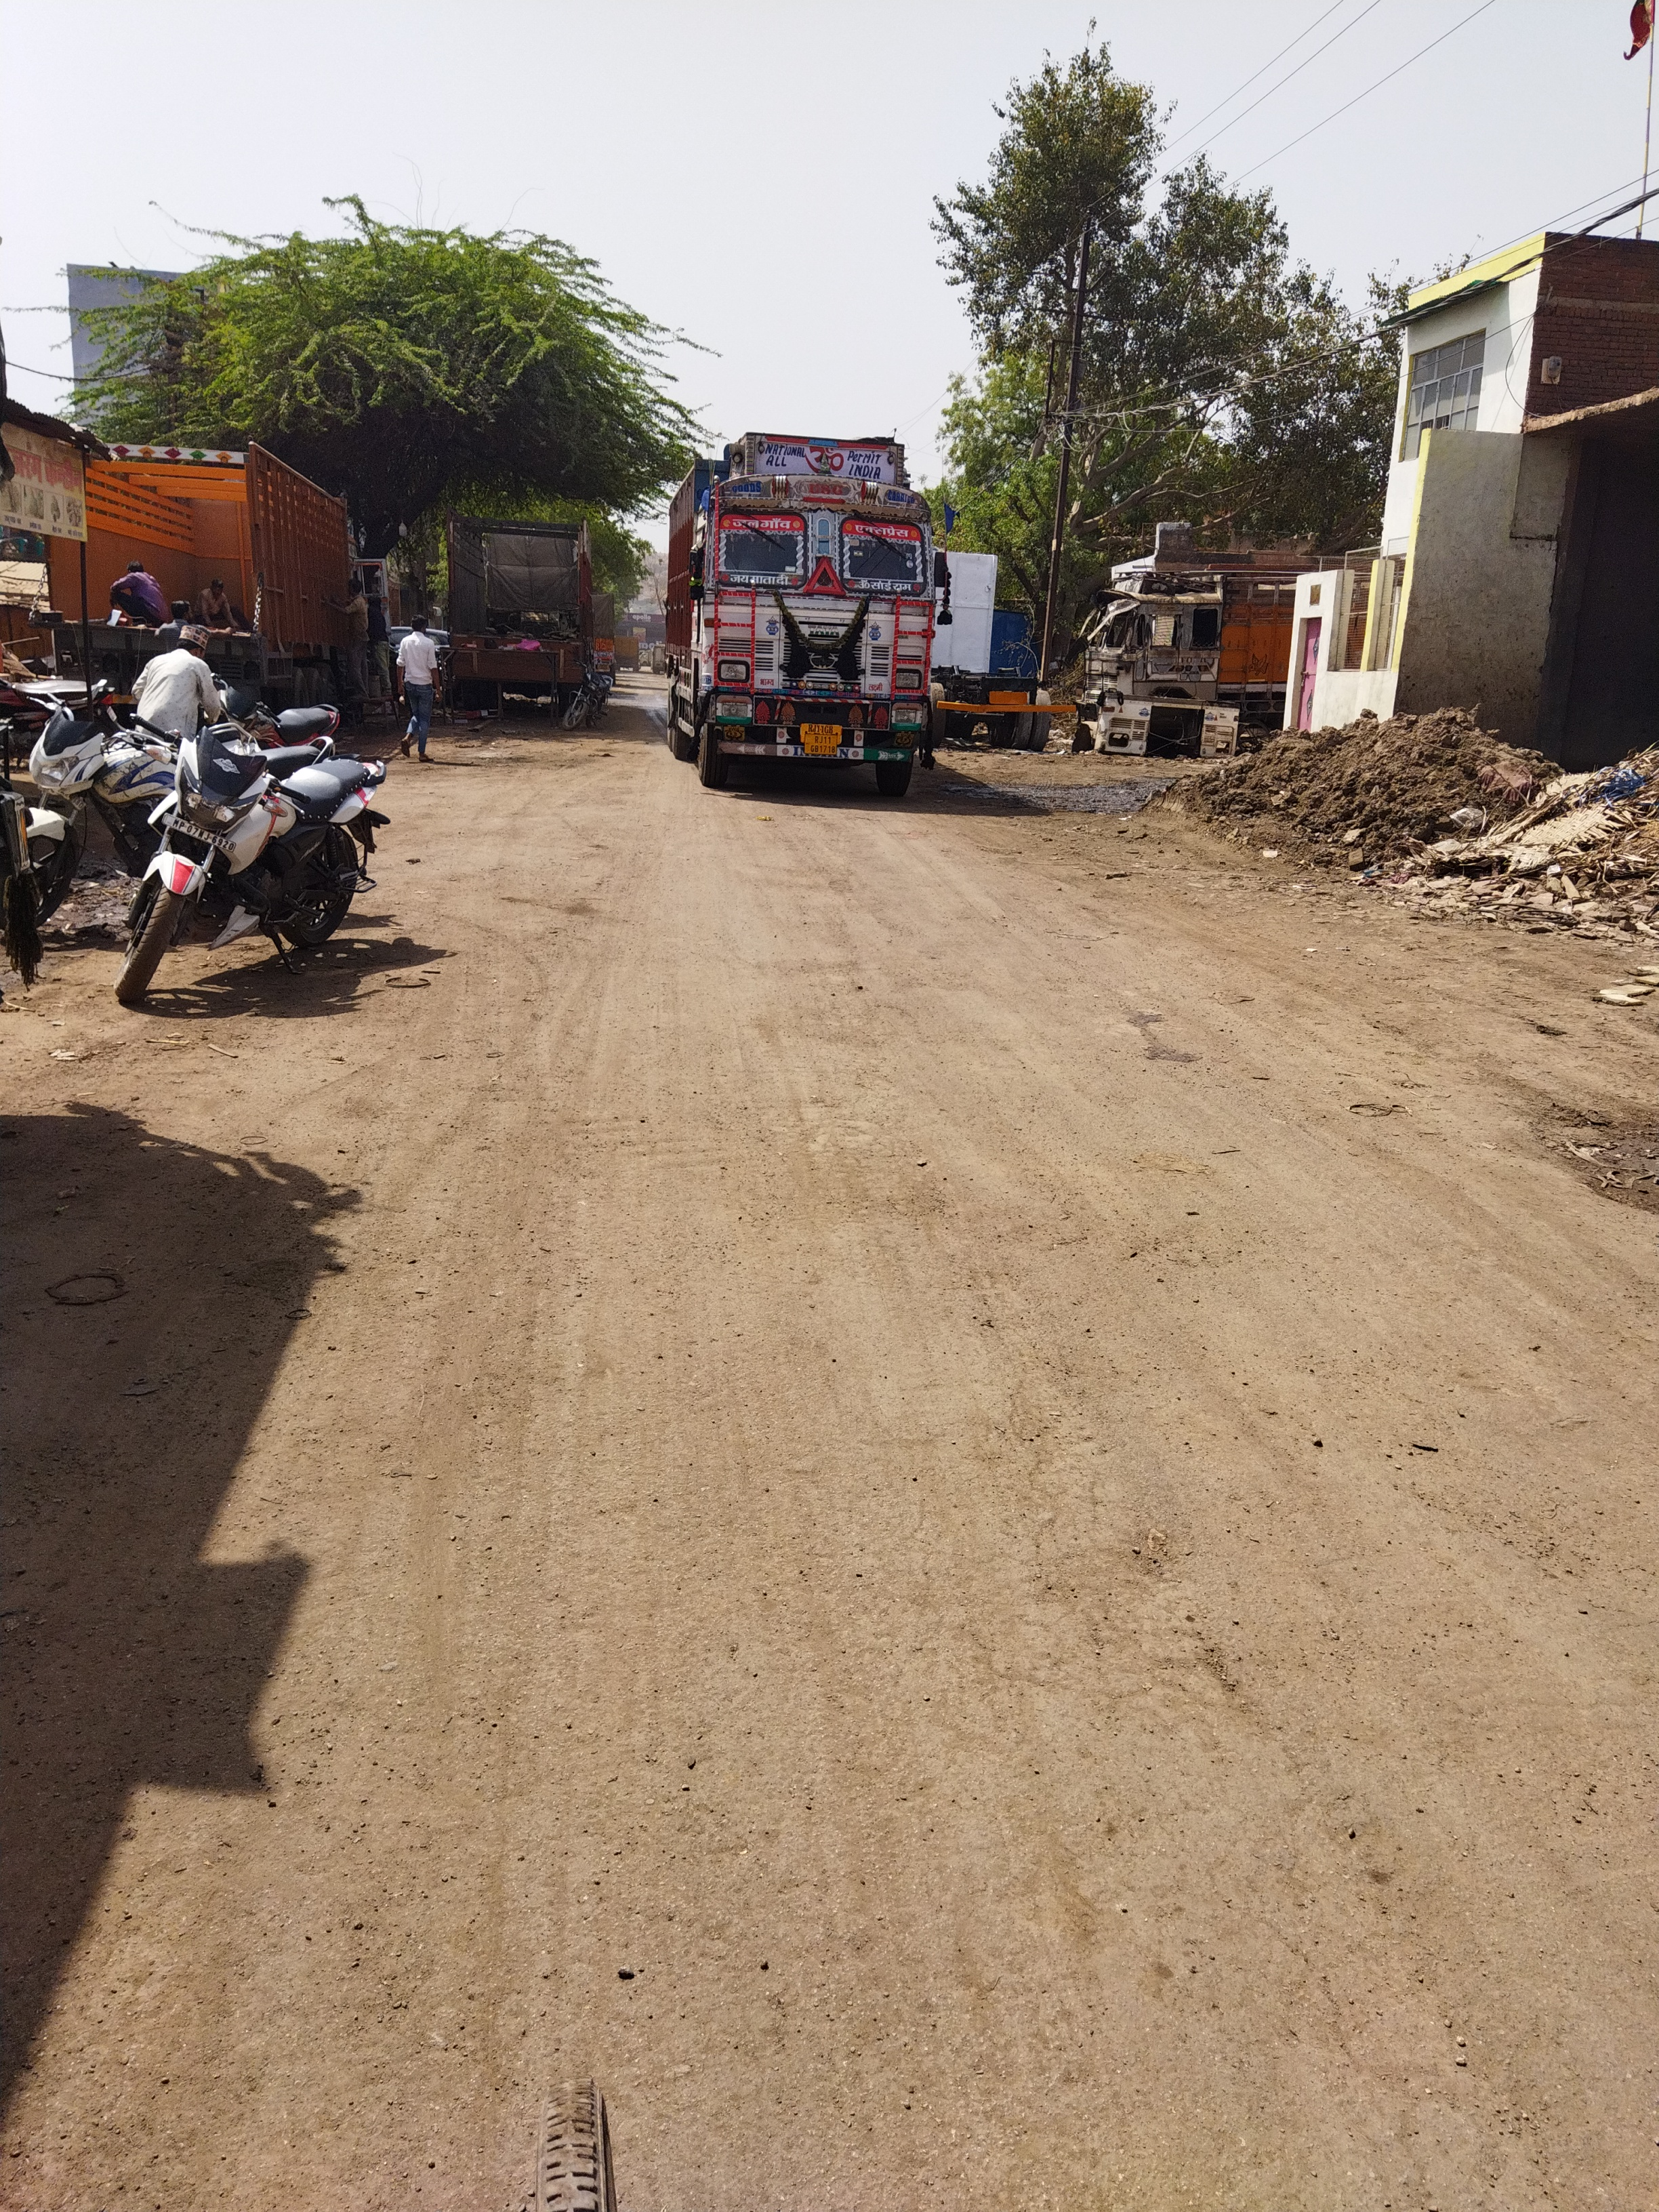truck: (24, 434, 392, 740), (660, 430, 962, 798), (1070, 568, 1373, 758), (436, 507, 596, 730), (591, 590, 619, 685), (613, 634, 641, 672)
